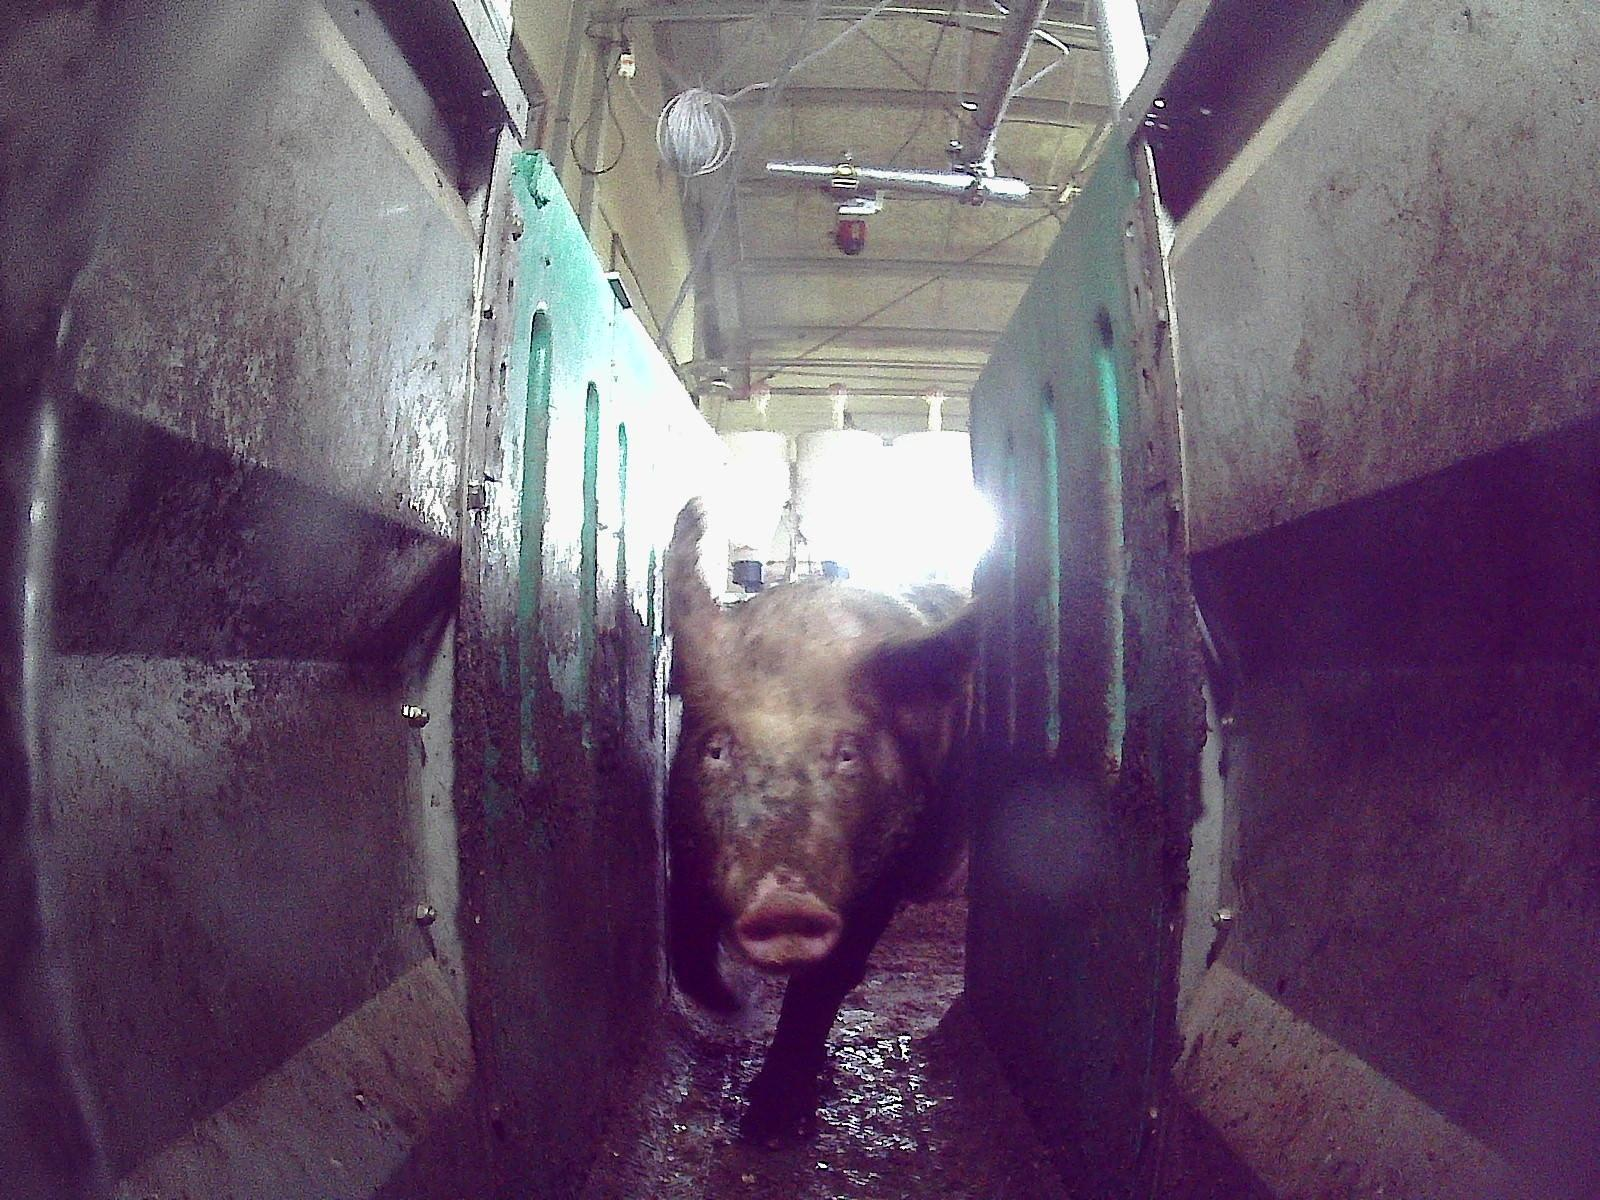Face: (676, 649, 901, 966)
